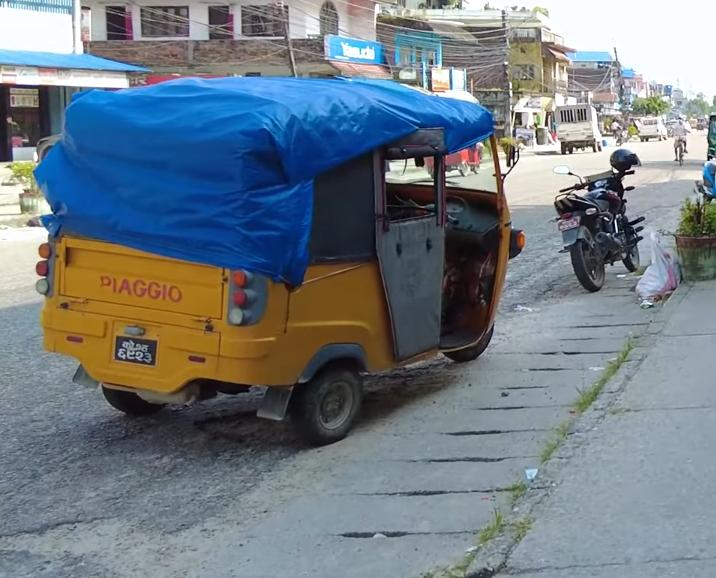auto_rickshaw: (25, 73, 527, 441)
